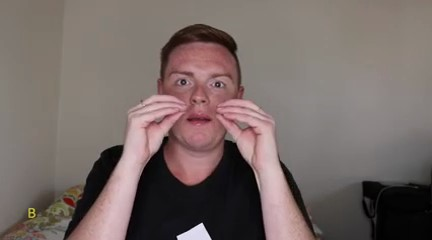B: (116, 88, 287, 173)
